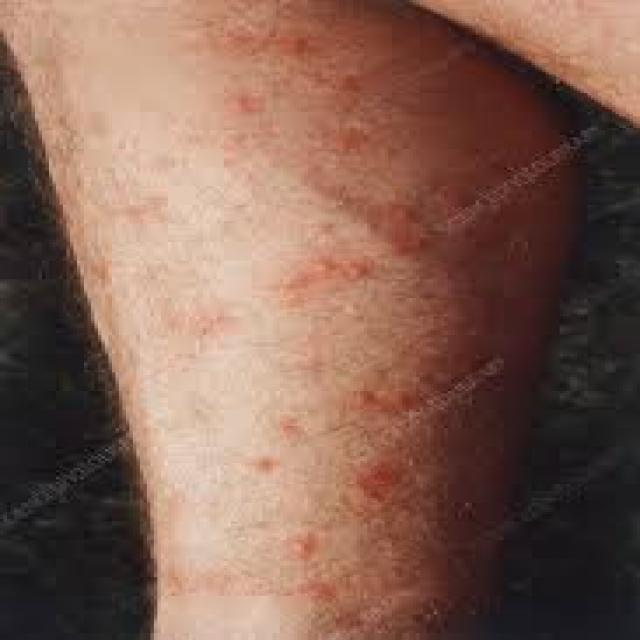kan emici bocekler: (173, 33, 407, 612)
